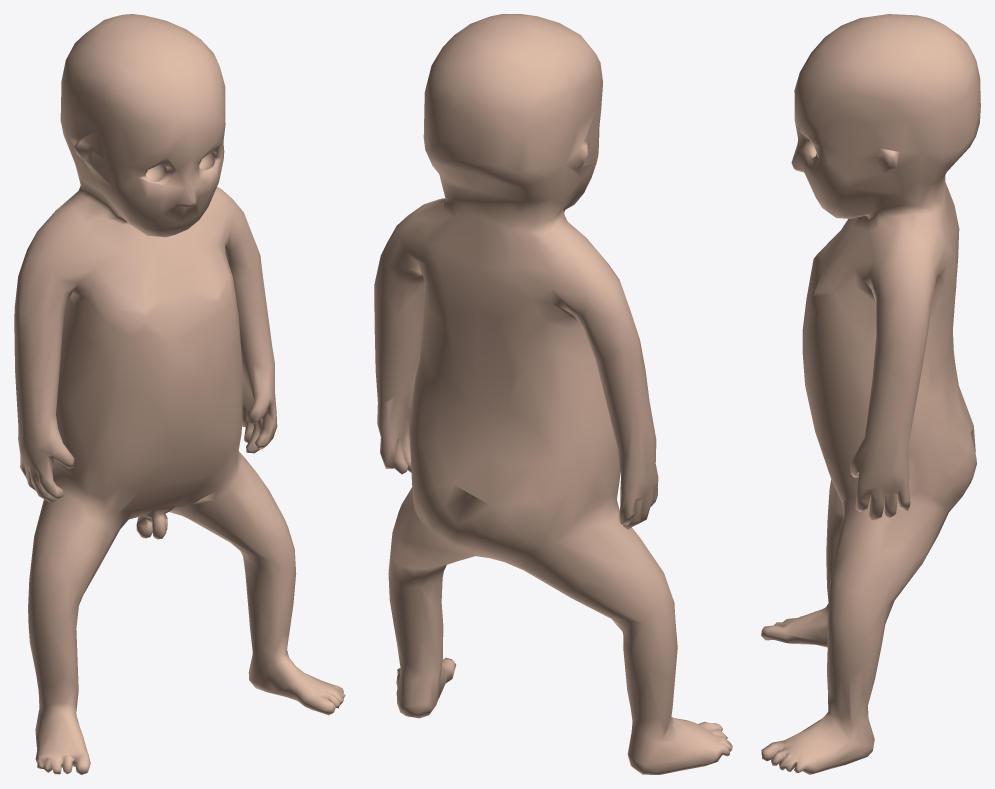
File: pediatric_neonate_male.surface.LOD3.glb
3 renders of one model, left to right at view 1: azimuth 30°, elevation 25°; view 2: azimuth 150°, elevation 25°; view 3: azimuth 270°, elevation 25°, orthographic. The views are drawn at different scales.
Visible parts, largest first — view 1: PEDIATRIC.NEONATE.MALE.SURFACE.SKIN; view 2: PEDIATRIC.NEONATE.MALE.SURFACE.SKIN; view 3: PEDIATRIC.NEONATE.MALE.SURFACE.SKIN.
Part boxes in pixels (x1=…): PEDIATRIC.NEONATE.MALE.SURFACE.SKIN: x1=14, y1=14, x2=345, y2=774; PEDIATRIC.NEONATE.MALE.SURFACE.SKIN: x1=374, y1=14, x2=732, y2=774; PEDIATRIC.NEONATE.MALE.SURFACE.SKIN: x1=761, y1=14, x2=980, y2=774.
Size of the model in its own units: 0.2281 by 0.4817 by 0.1406.
